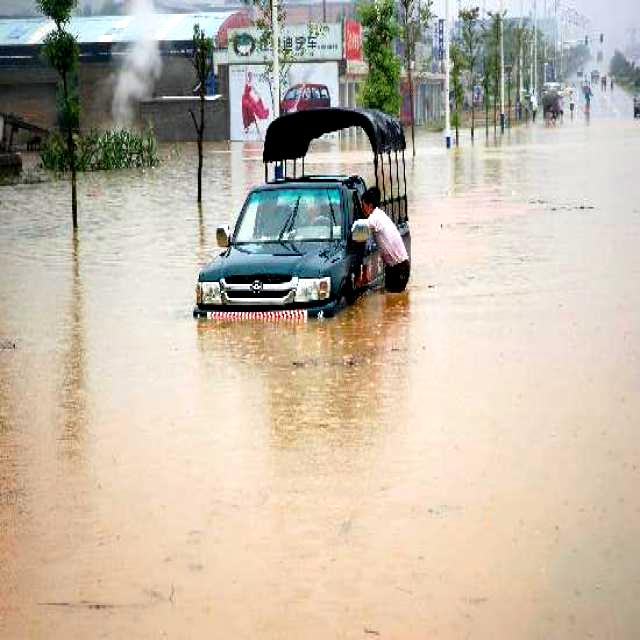civilian: (353, 189, 420, 289)
